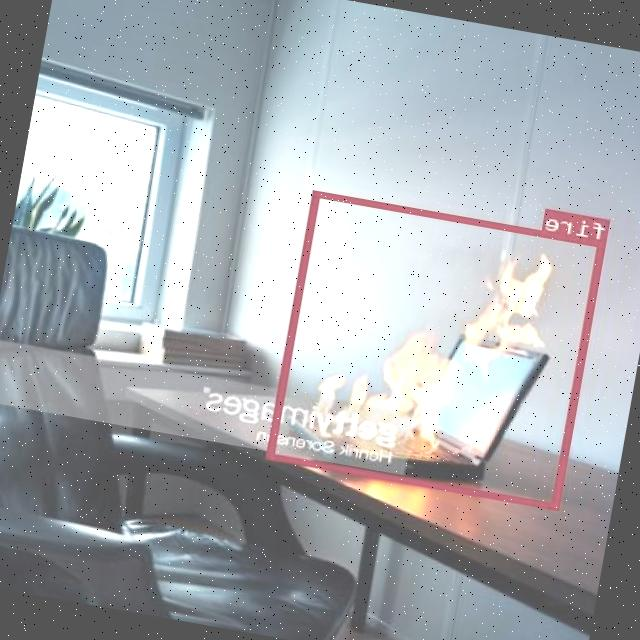fire: (267, 189, 608, 509)
